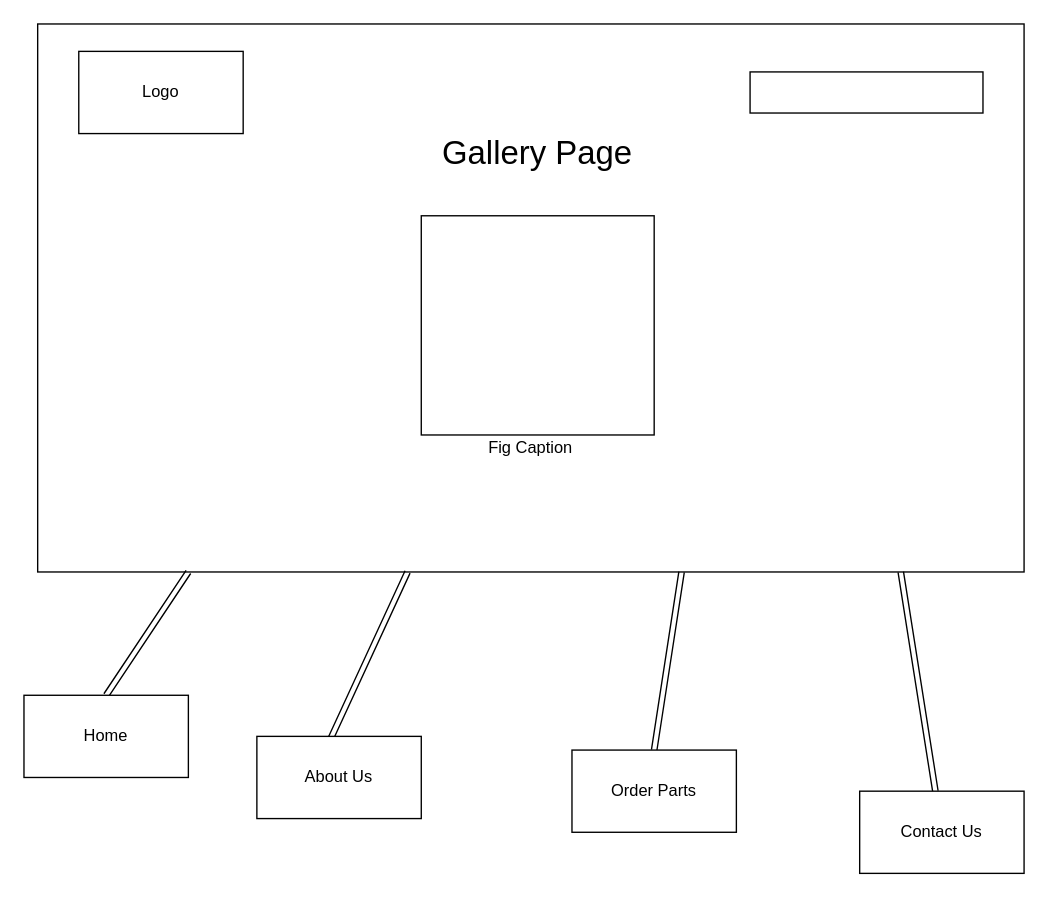
This 1048x897 diagram has some shape labels left out. The box of each missing label's shape, as (x1, y1, x2, y2) in pixels:
Image Slide Show: (420, 214, 654, 435)
Nav Bar: (749, 71, 983, 113)
